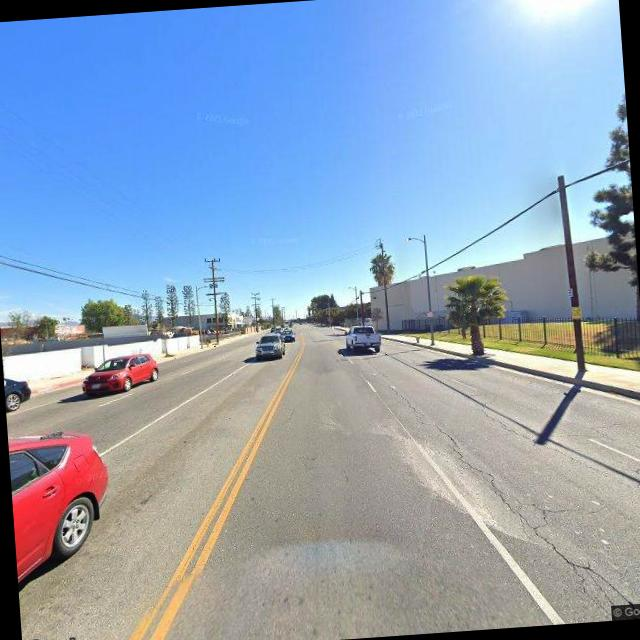pothole: (383, 366, 631, 626), (475, 393, 633, 493)
